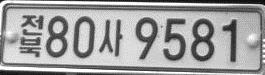0: (72, 15, 95, 58)
1: (221, 18, 244, 62)
5: (162, 18, 186, 61)
8: (190, 18, 215, 62), (45, 15, 69, 57)
9: (135, 16, 158, 60)
사: (99, 18, 123, 57)
전북_V: (18, 14, 44, 57)
